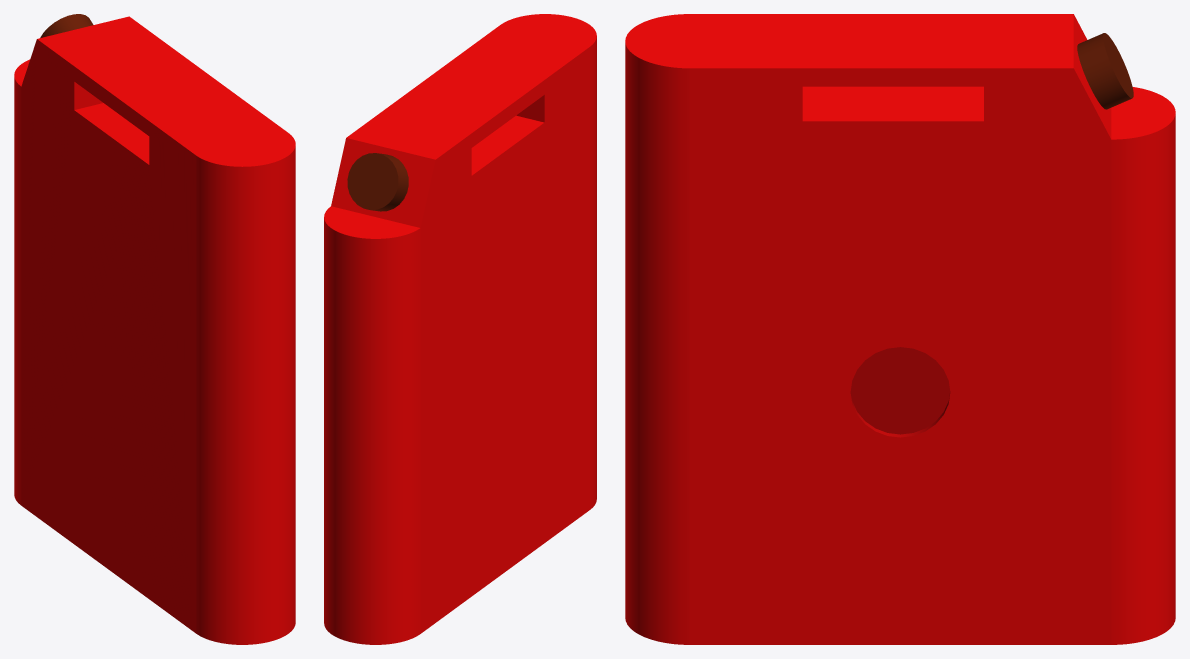
File: Fuel.fbx
3 renders of one model, left to right at view 1: azimuth 30°, elevation 25°; view 2: azimuth 150°, elevation 25°; view 3: azimuth 270°, elevation 25°, orthographic. The views are drawn at different scales.
Visible parts, largest first — view 1: Group1; view 2: Group1; view 3: Group1.
Boxes of the visible parts, x1,y1,x2,y2 form: Group1: [14, 14, 295, 644]; Group1: [324, 14, 596, 644]; Group1: [625, 14, 1175, 644].
Bounding box in the file's own units: 1.13 × 5.61 × 4.81.
